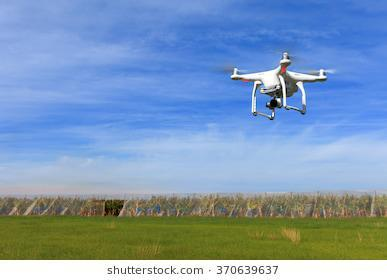drone: (218, 47, 336, 123)
